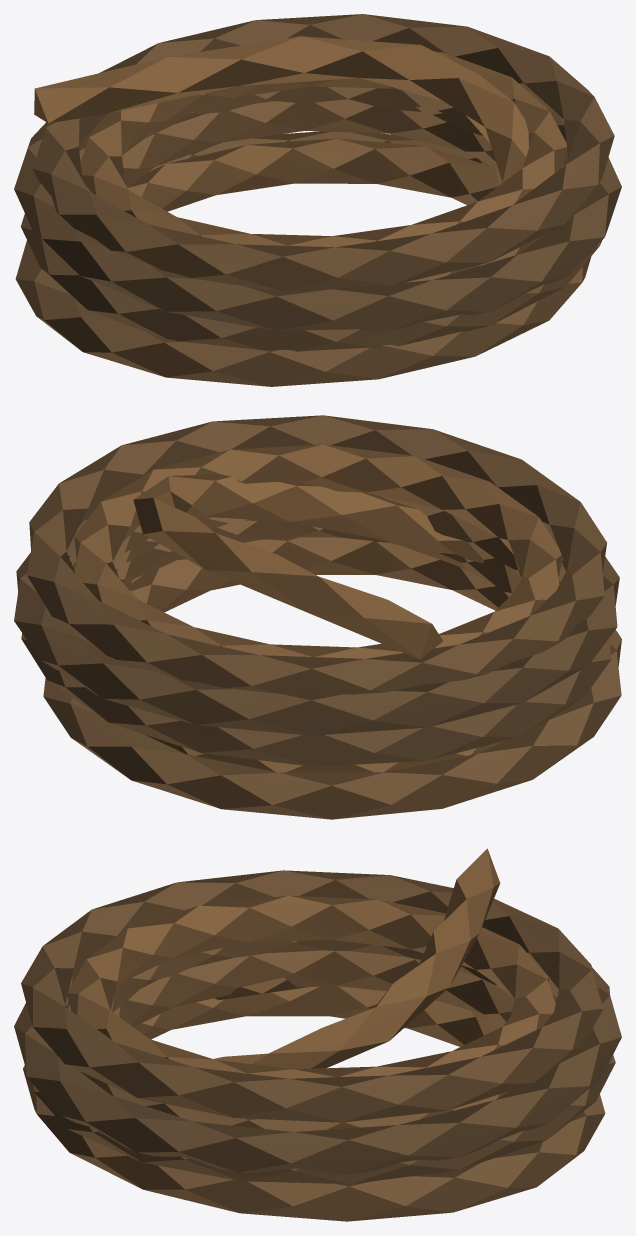
Rendered from Rope.fbx.
3 renders of one model, top to bottom at view 1: azimuth 30°, elevation 25°; view 2: azimuth 150°, elevation 25°; view 3: azimuth 270°, elevation 25°, orthographic.
Visible parts, largest first — view 1: rope; view 2: rope; view 3: rope.
Part boxes in pixels (left/top/right/bottom): rope: left=14, top=14, right=621, bottom=386; rope: left=14, top=415, right=621, bottom=819; rope: left=14, top=848, right=621, bottom=1221.
Bounding box in the file's own units: 27.69 × 9.84 × 27.53.
